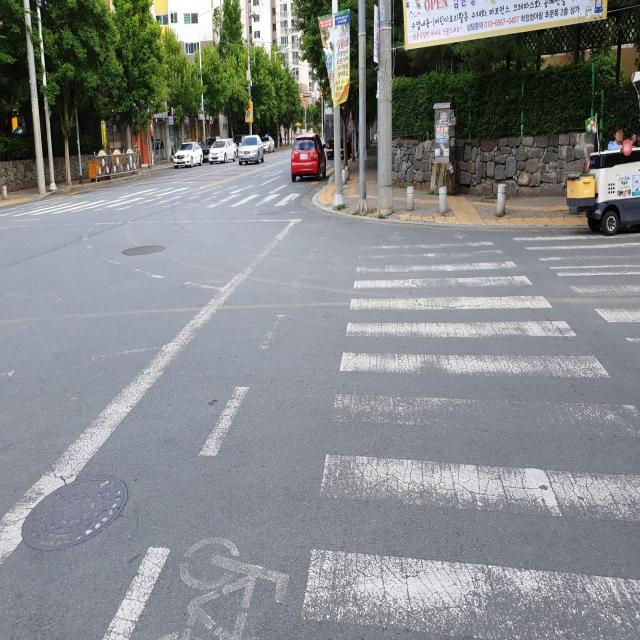횡단보도: (300, 228, 640, 639), (23, 178, 304, 218)
